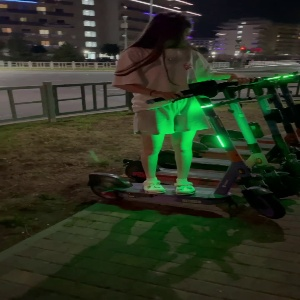human on a scooter: (83, 10, 284, 221)
